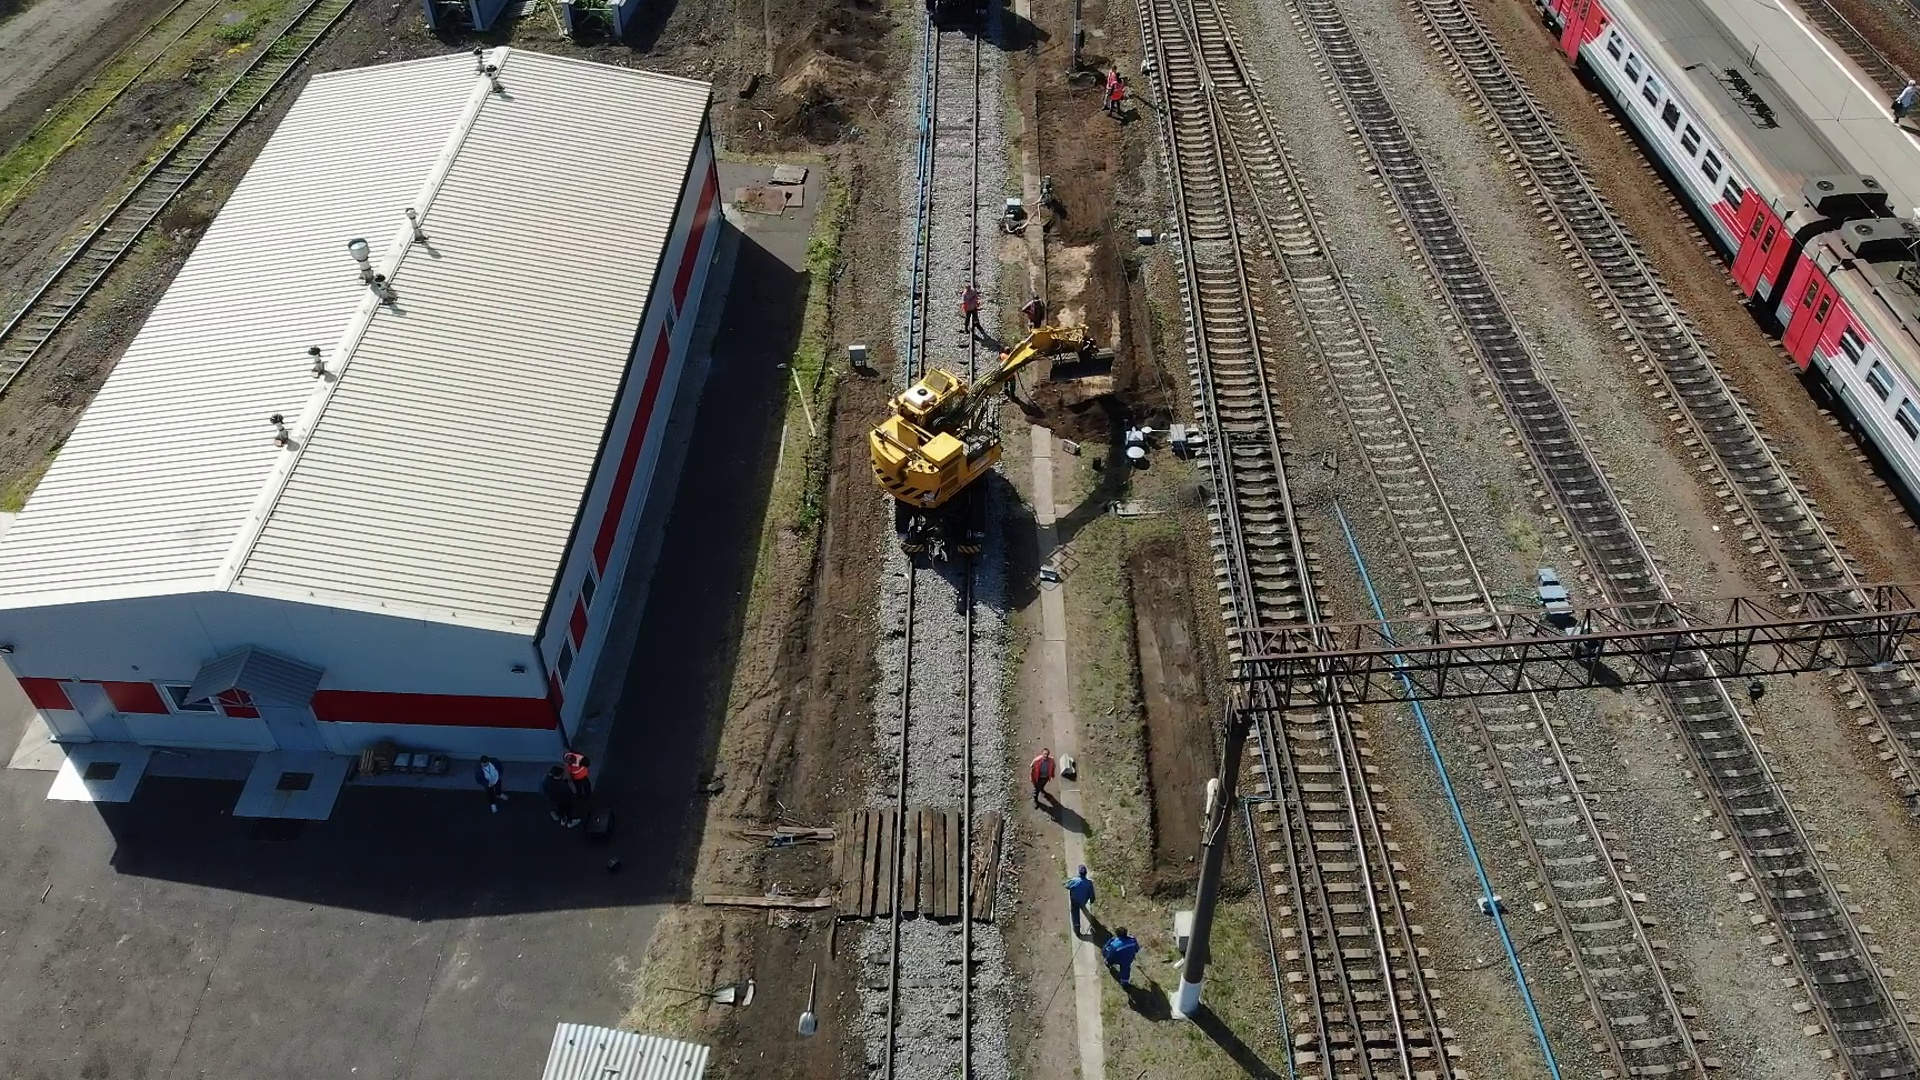kjtv: (861, 355, 1004, 555)
